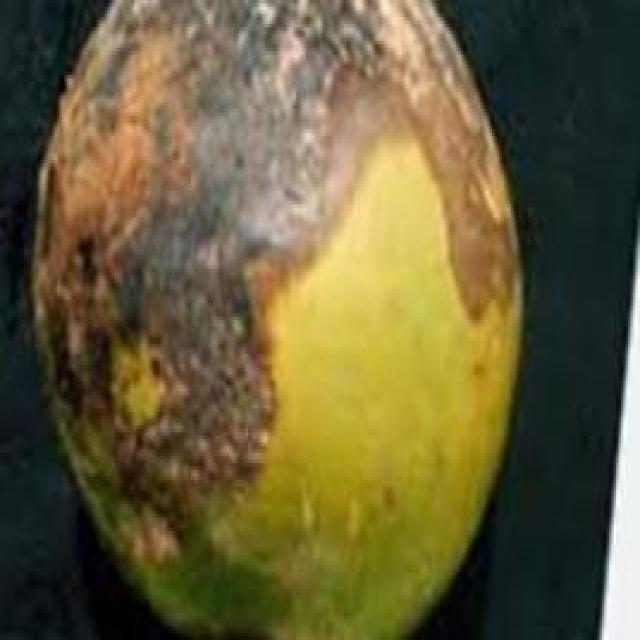damaged: (31, 0, 521, 637)
